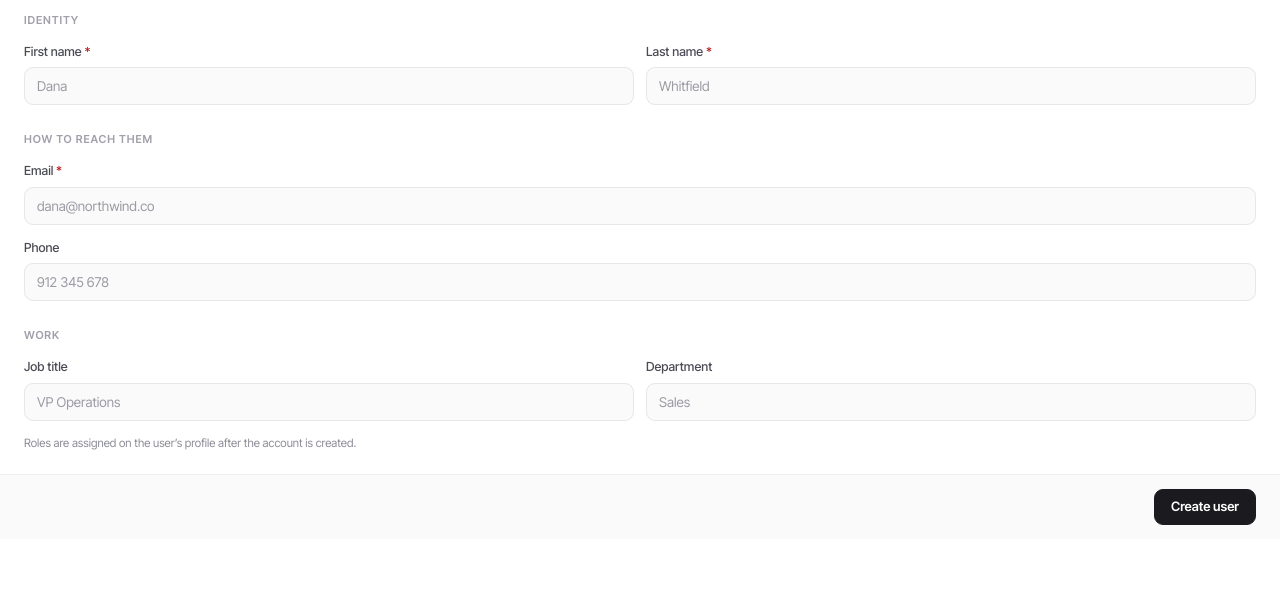
UserForm › create mode › shows server error inline on failure
The width and height of the screenshot is (1280, 605).
Type "ada@example.com" into the field labelled "Email *" at {"x": 640, "y": 206}, box [24,186,1256,224]
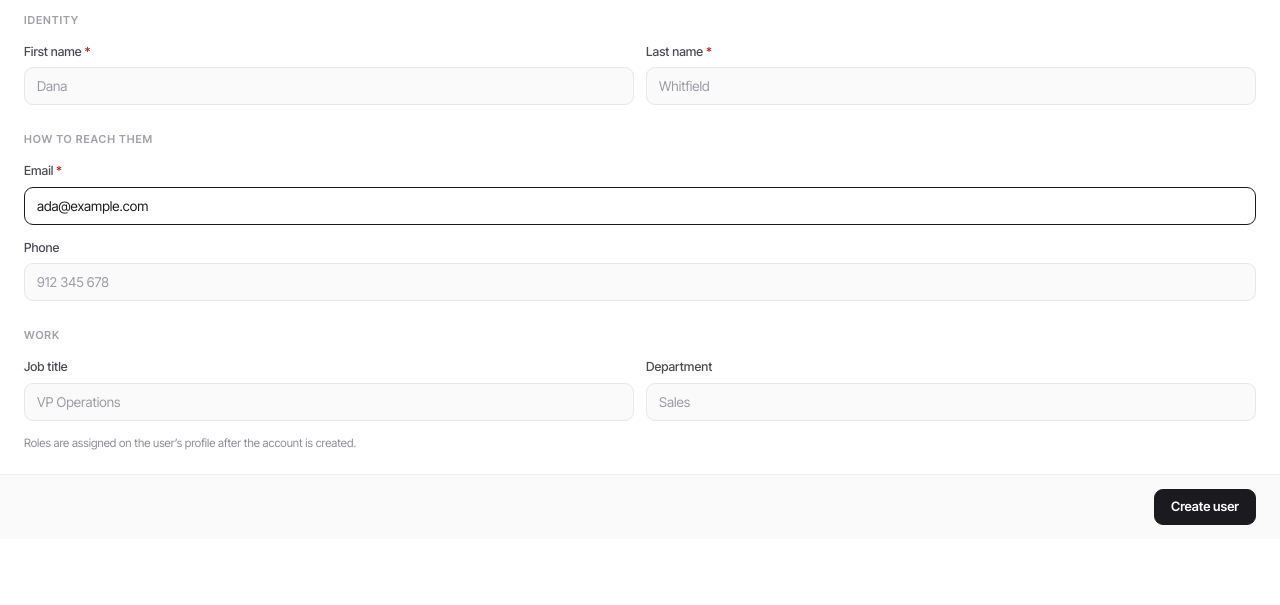
Type "Ada" into the field labelled "First name *" at {"x": 329, "y": 86}, box [24,67,634,105]
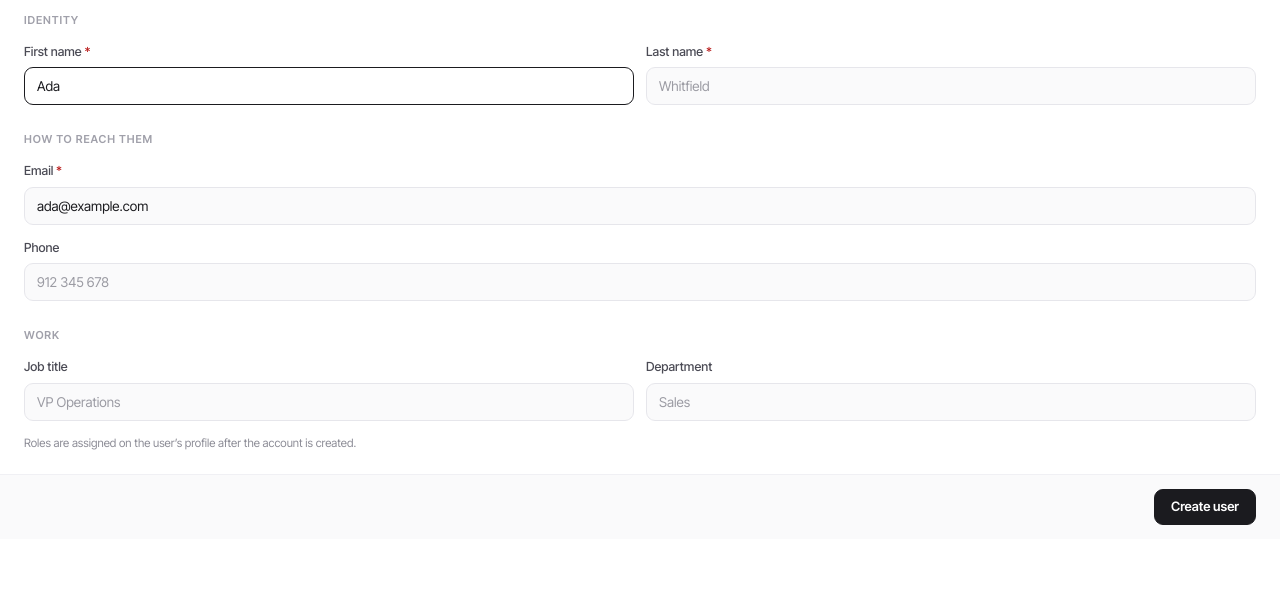
Type "Lovelace" into the field labelled "Last name *" at {"x": 951, "y": 86}, box [646,67,1256,105]
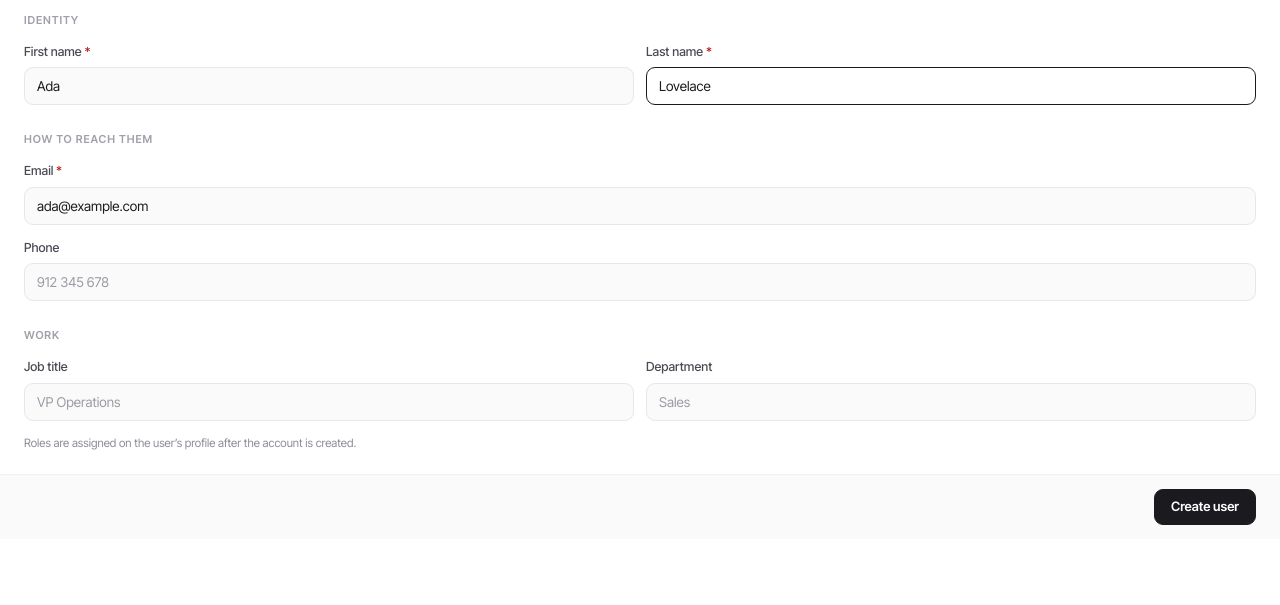
Click the button "Create user" at {"x": 1205, "y": 507}, box [1154,489,1256,525]
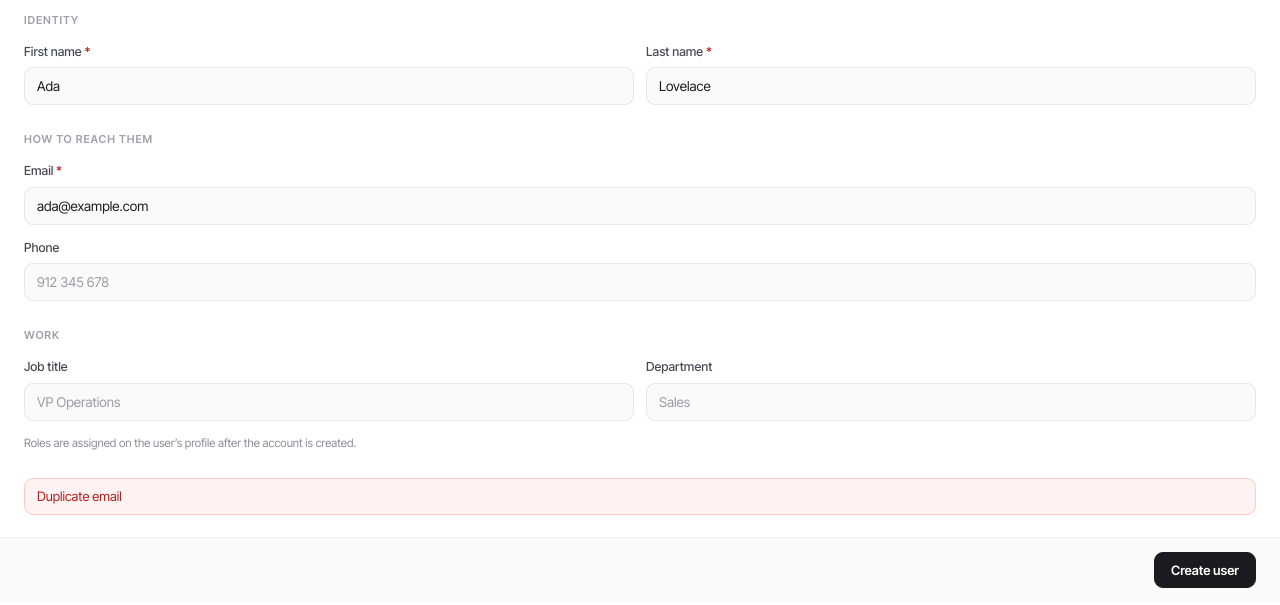
Expected: the text "Duplicate email" is shown, [24,478,1256,515]
